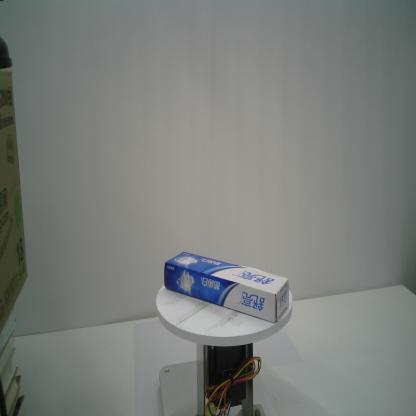Personal Hygiene: (164, 251, 289, 324)
